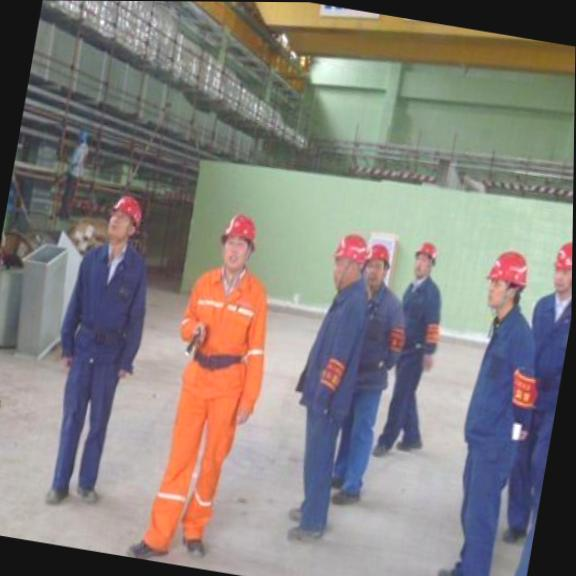no_safety_vest: (456, 314, 542, 453), (294, 278, 371, 410), (63, 243, 155, 352), (519, 288, 572, 402), (354, 288, 405, 395), (396, 276, 451, 357)
safety_vest: (169, 264, 279, 387)
